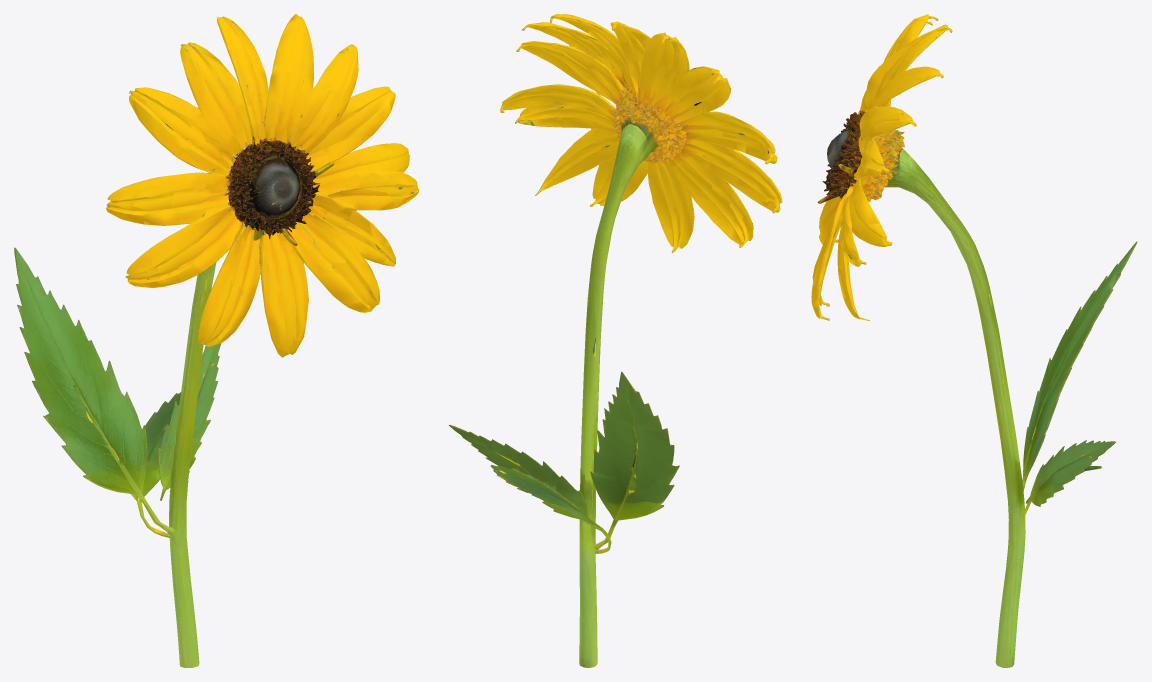
Rendered from rudbeckia-09.glb.
3 renders of one model, left to right at view 1: azimuth 30°, elevation 25°; view 2: azimuth 150°, elevation 25°; view 3: azimuth 270°, elevation 25°, orthographic. The views are drawn at different scales.
Bounding box in the file's own units: 0.8903 × 1.9 × 0.8787.
1 material, 1 textured.
